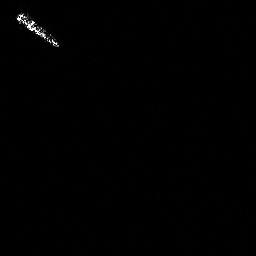ship: (17, 14, 59, 46)
